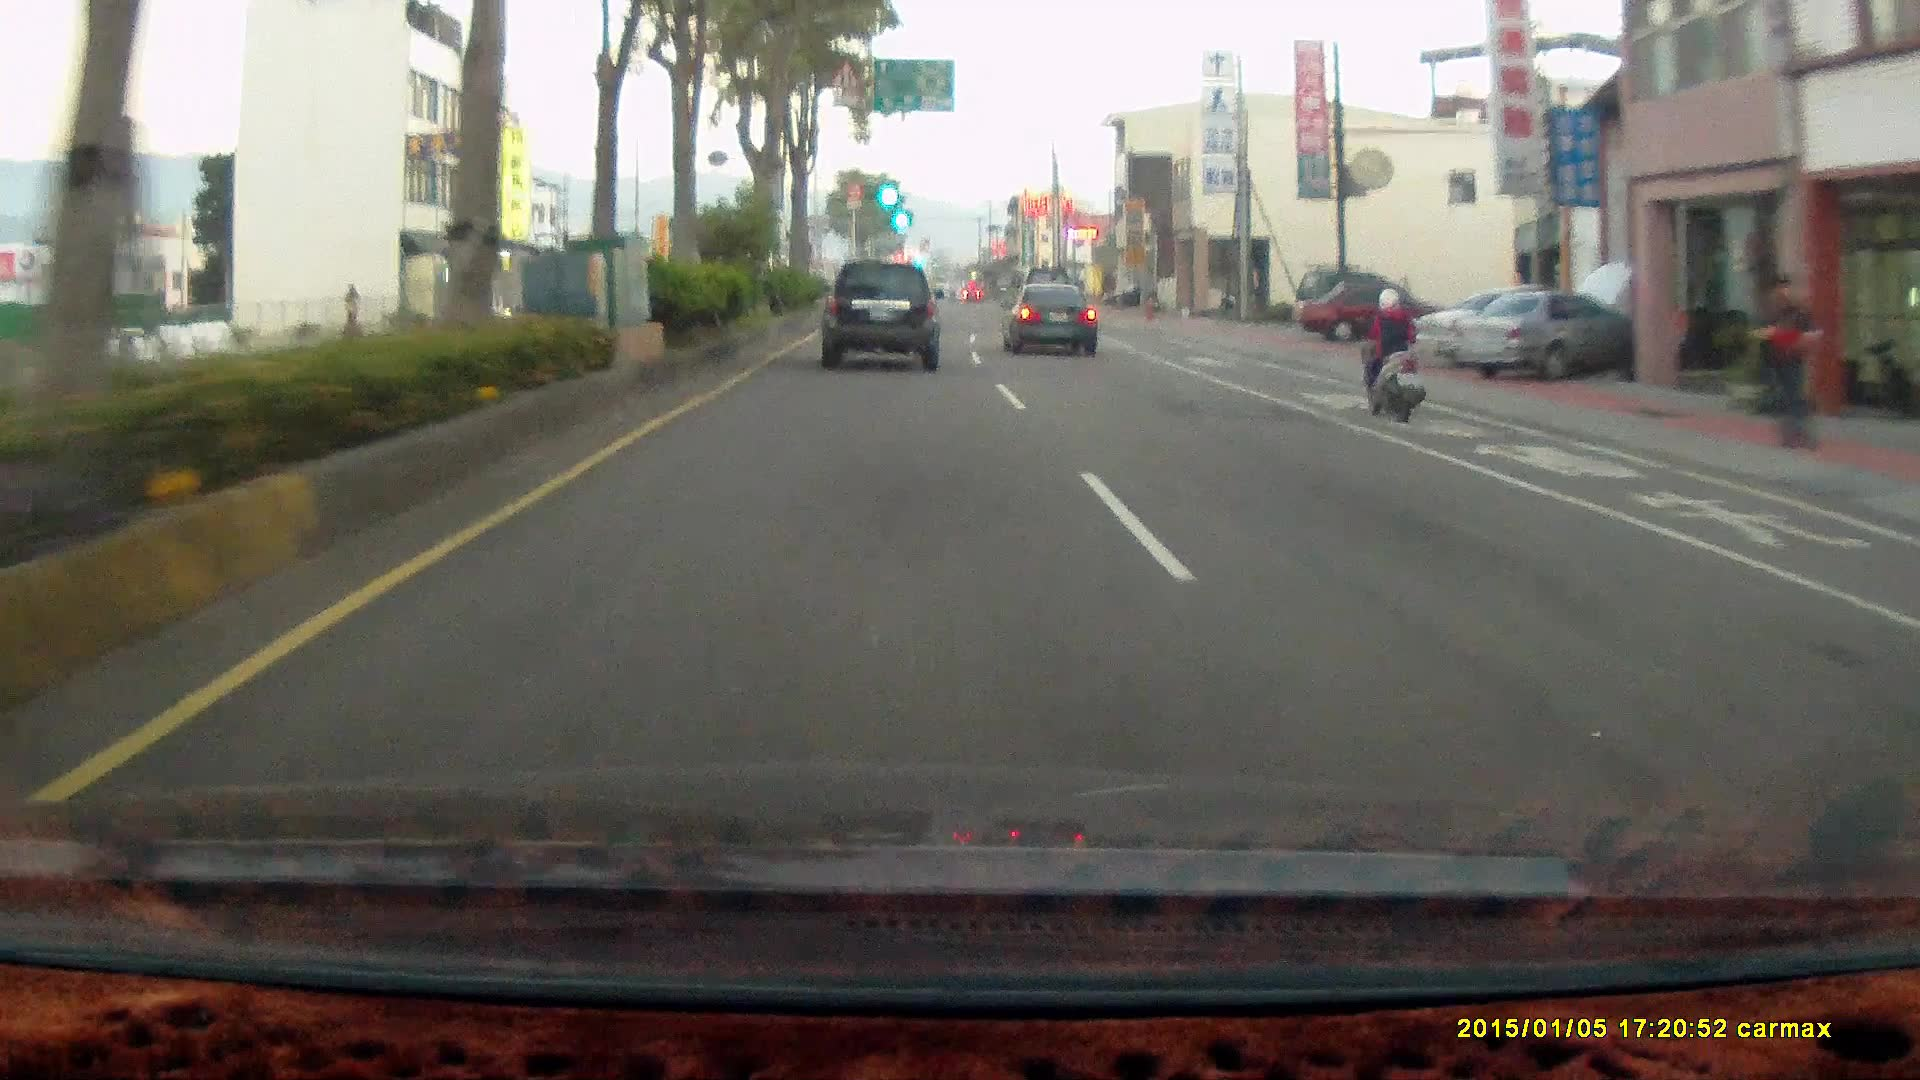pedestrian: (1751, 273, 1831, 456)
rider: (1348, 275, 1436, 429), (1354, 289, 1425, 425)
vehicle: (1451, 290, 1638, 382), (819, 263, 947, 376), (819, 263, 944, 370), (1295, 281, 1446, 348), (1295, 281, 1445, 347), (1003, 285, 1101, 359), (1000, 281, 1098, 353), (1104, 287, 1158, 309)
